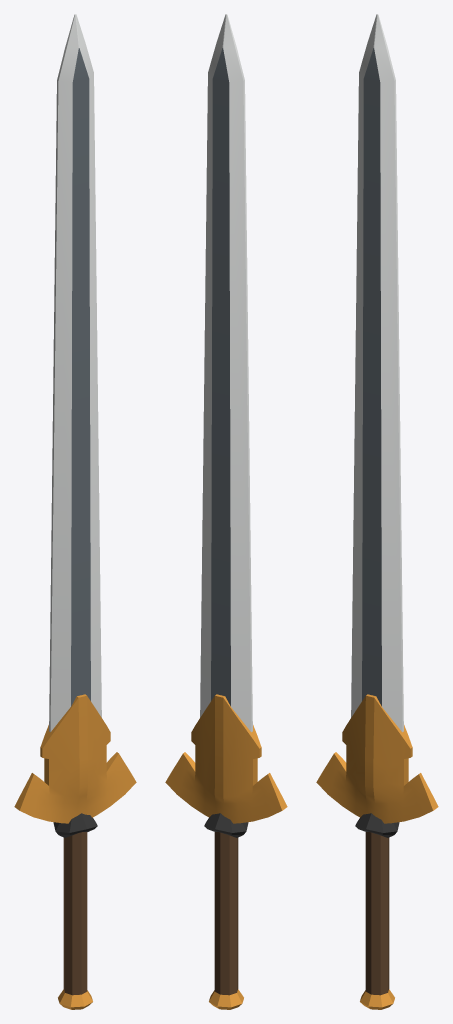
Rendered from one_handed_sword_8.fbx.
3 renders of one model, left to right at view 1: azimuth 30°, elevation 25°; view 2: azimuth 150°, elevation 25°; view 3: azimuth 330°, elevation 25°, orthographic.
Visible parts, largest first — view 1: one_handed_sword_8; view 2: one_handed_sword_8; view 3: one_handed_sword_8.
Boxes of the visible parts, bbox=[...] form: one_handed_sword_8: bbox=[14, 14, 136, 1009]; one_handed_sword_8: bbox=[165, 14, 287, 1009]; one_handed_sword_8: bbox=[316, 14, 438, 1009].
Size of the model in its own units: 0.197 by 1.6 by 0.0675.
Materials: 1 (1 with a texture image).
